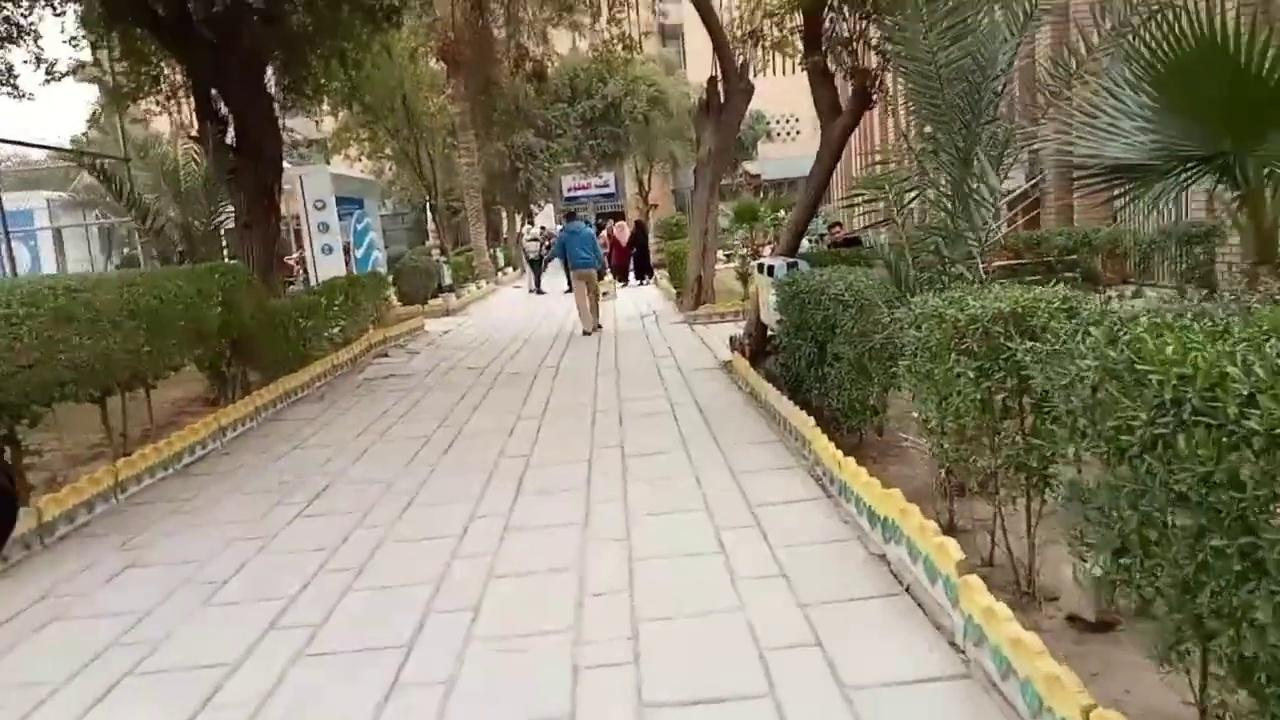person: (551, 209, 607, 335), (825, 220, 862, 249)
tree: (3, 0, 1276, 310), (76, 0, 412, 294), (1057, 290, 1279, 718), (889, 276, 1102, 606), (1049, 0, 1279, 277), (0, 0, 231, 267), (836, 0, 1051, 286), (402, 0, 574, 282), (737, 0, 923, 260), (313, 6, 467, 286), (658, 0, 796, 310), (536, 49, 698, 236), (769, 259, 904, 446), (718, 188, 792, 303)
